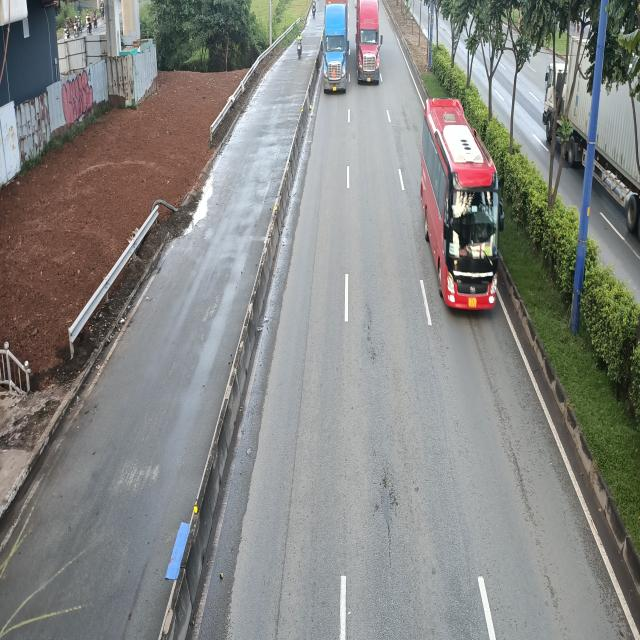coach: (418, 101, 501, 318)
container: (322, 0, 352, 94), (356, 0, 384, 86)
